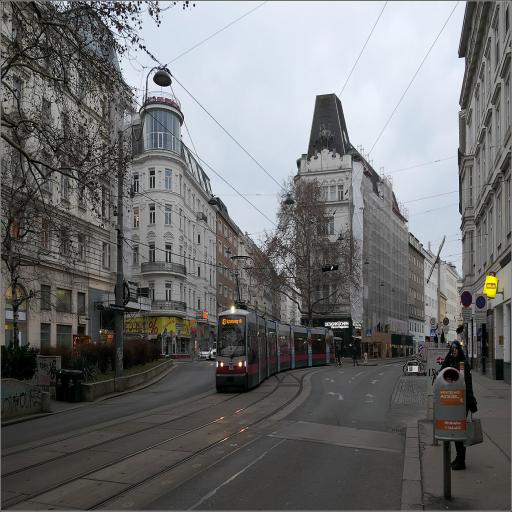ULF: (214, 308, 335, 392)
